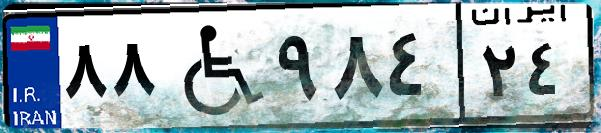2: (475, 38, 525, 113)
4: (385, 28, 445, 110), (525, 38, 570, 115)
8: (330, 28, 385, 110), (57, 26, 110, 100), (110, 28, 158, 98)
9: (270, 28, 330, 110)
ژ (معلولین و جانبازان): (158, 12, 270, 120)
